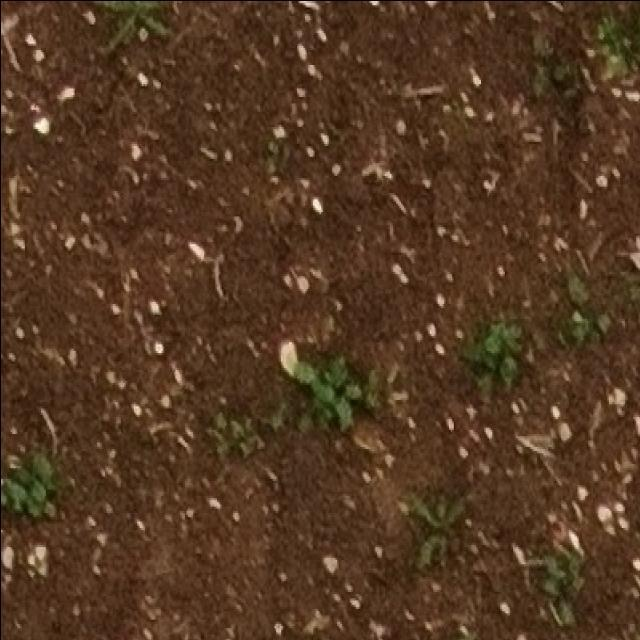cirse: (409, 504, 469, 576), (408, 472, 468, 544), (411, 472, 469, 544)
